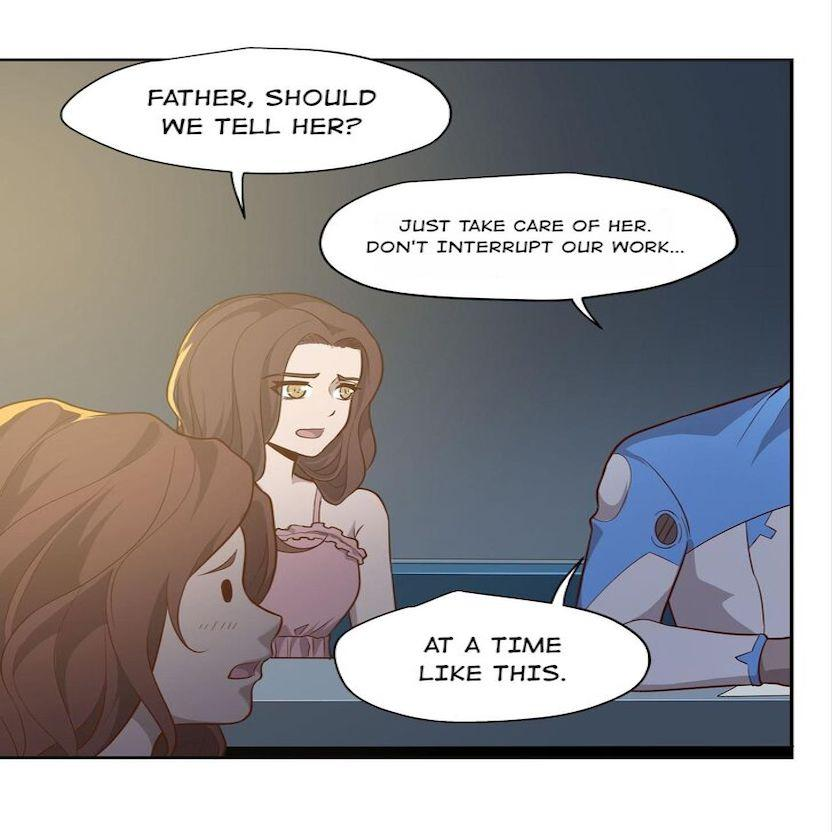Bubble: (58, 44, 456, 177), (315, 183, 743, 306), (331, 584, 654, 726)
